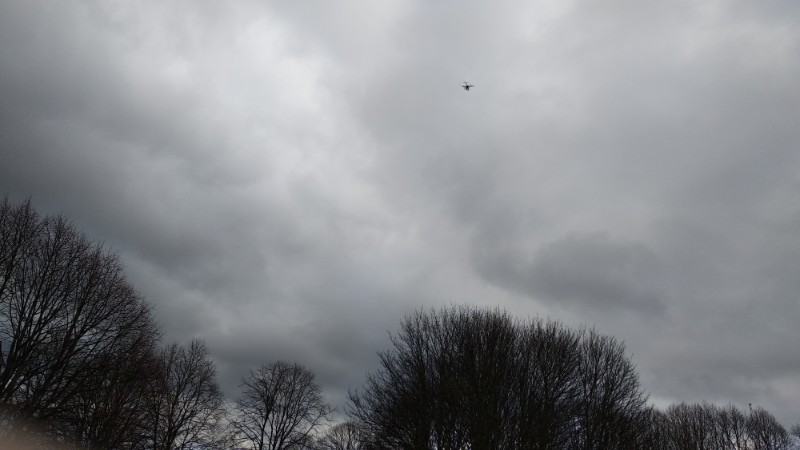drone: (461, 81, 473, 92)
